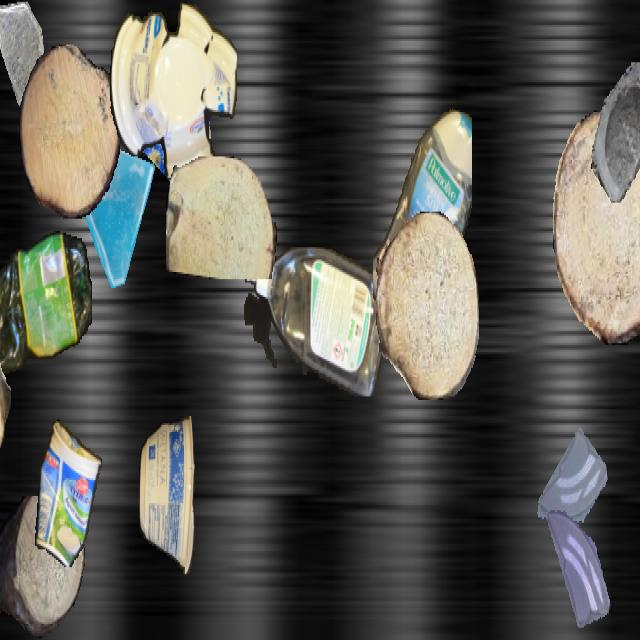glass: (120, 54, 214, 220), (74, 134, 164, 294), (540, 507, 614, 638), (535, 423, 607, 551), (589, 62, 640, 201), (0, 2, 47, 105)
plastic: (373, 102, 471, 340), (110, 2, 236, 180), (244, 247, 390, 397), (0, 224, 91, 388), (33, 420, 103, 566), (139, 416, 195, 572)
wood: (553, 109, 640, 343), (376, 212, 478, 400), (20, 45, 120, 218), (166, 156, 276, 278), (0, 496, 85, 638), (0, 332, 11, 489)
